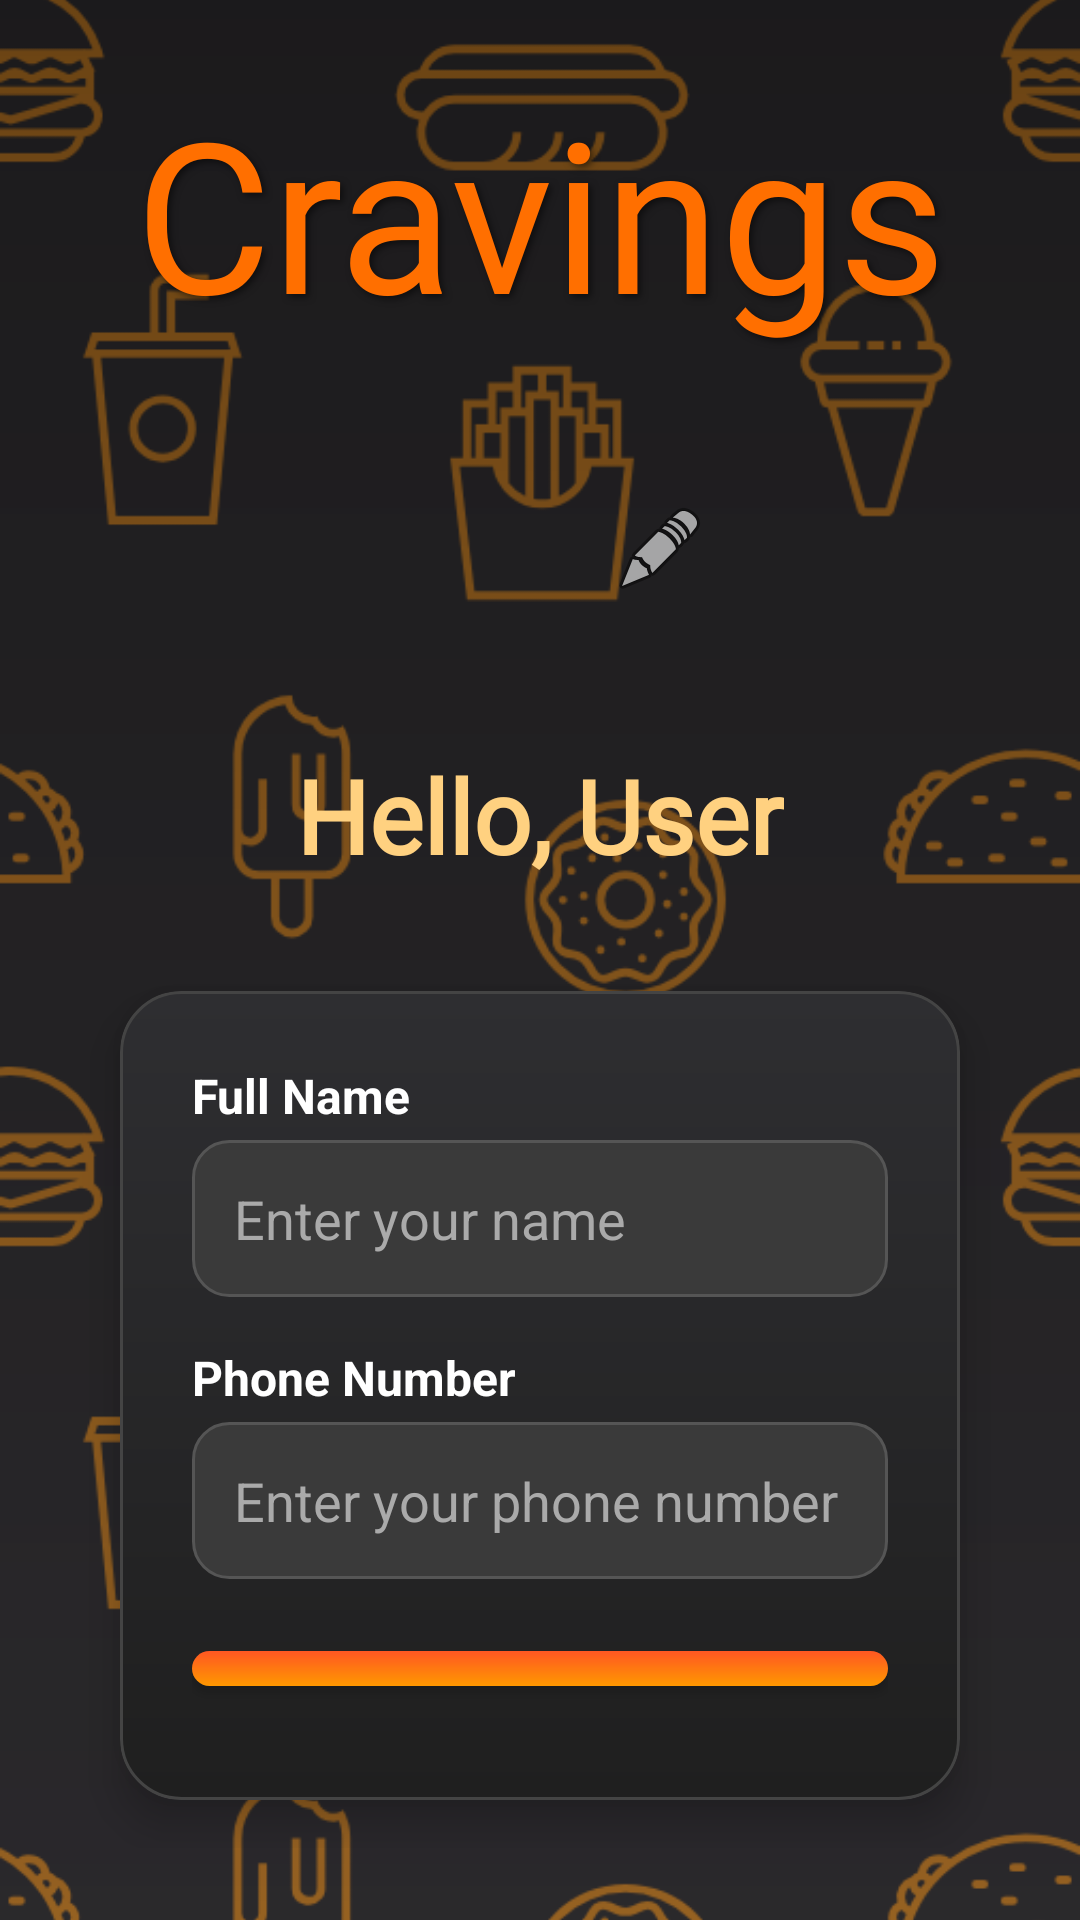

Where icons sit on this 1080px x 1920px app screen, as bbox=[x1, y1, x2, y2]:
Edit Profile Picture: bbox=[622, 511, 697, 586]
